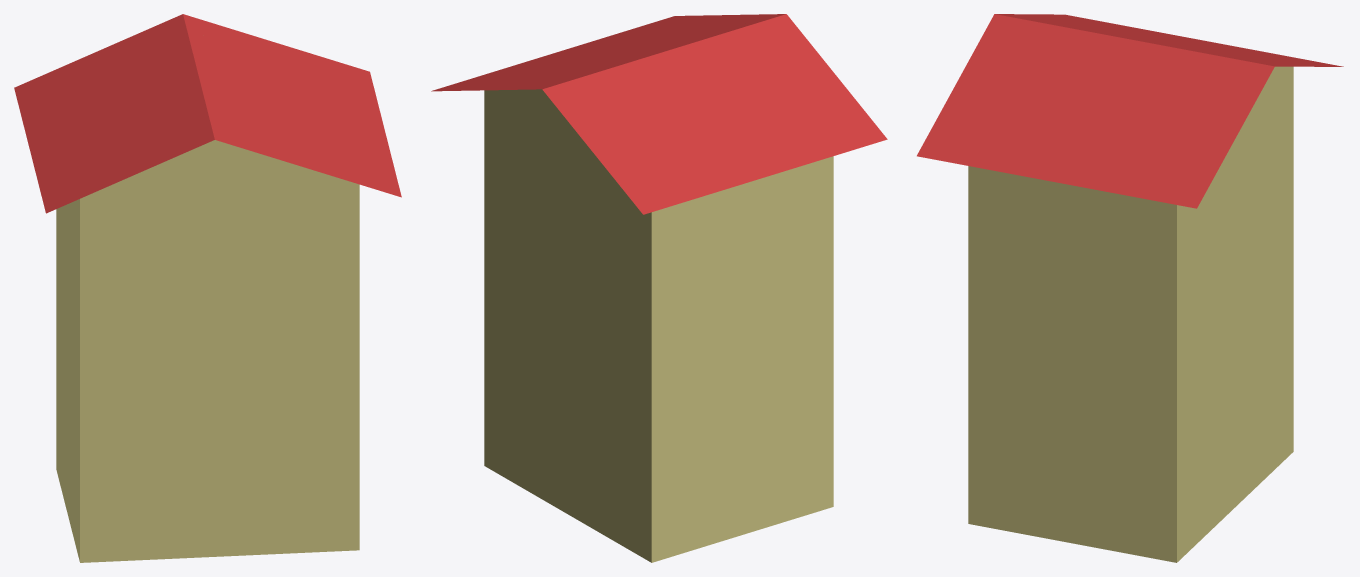
3 views of the same model, side by side, from view 1: azimuth 30°, elevation 25°; view 2: azimuth 150°, elevation 25°; view 3: azimuth 270°, elevation 25° (orthographic). The views are drawn at different scales.
Parts seen in each view (by area): view 1: group_5, group_3, group_4; view 2: group_5, group_3; view 3: group_5, group_3, group_4.
Boxes of the visible parts, x1=… form: group_5: x1=56, y1=140, x2=359, y2=562; group_3: x1=14, y1=14, x2=401, y2=213; group_4: x1=183, y1=14, x2=240, y2=139; group_5: x1=484, y1=89, x2=833, y2=562; group_3: x1=431, y1=14, x2=887, y2=214; group_5: x1=968, y1=66, x2=1293, y2=562; group_3: x1=917, y1=14, x2=1343, y2=208; group_4: x1=995, y1=14, x2=1274, y2=93.
Size of the model in its own units: 5.85 by 5.47 by 6.24.
